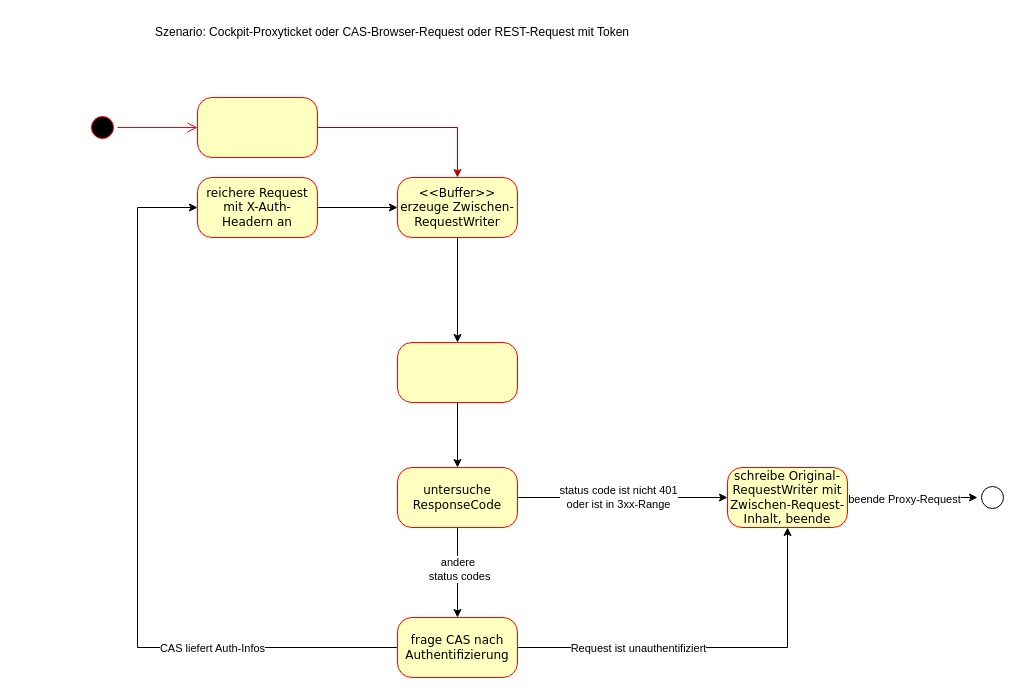
Some shapes in this 1025 by 695 pixel diagram are drawn without their labels. The centre of each missing label's shape, as x and y in pixels:
führe neuen Request gegen SonarQube durch: (457,372)
Request noch nicht gehandled: (257,127)
